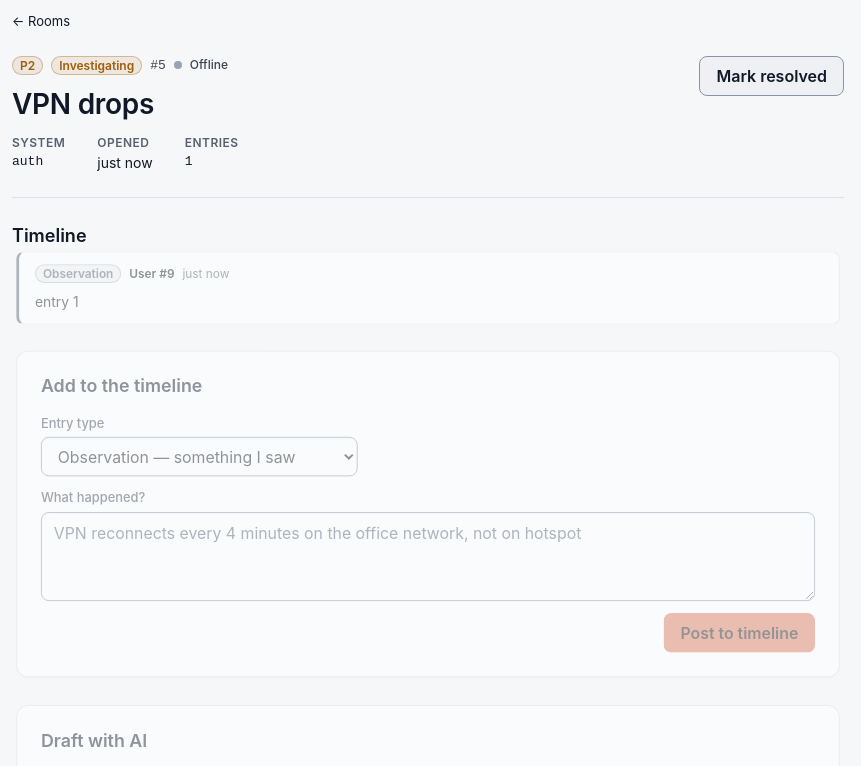
Test: RoomDetailsPage › posts an entry as { text } and merges the stored row into the timeline in id order
This screenshot has width=861, height=766.
Select "Action — something I did" in the dropdown labelled "Entry type" at [199, 457], box [41, 437, 358, 476]
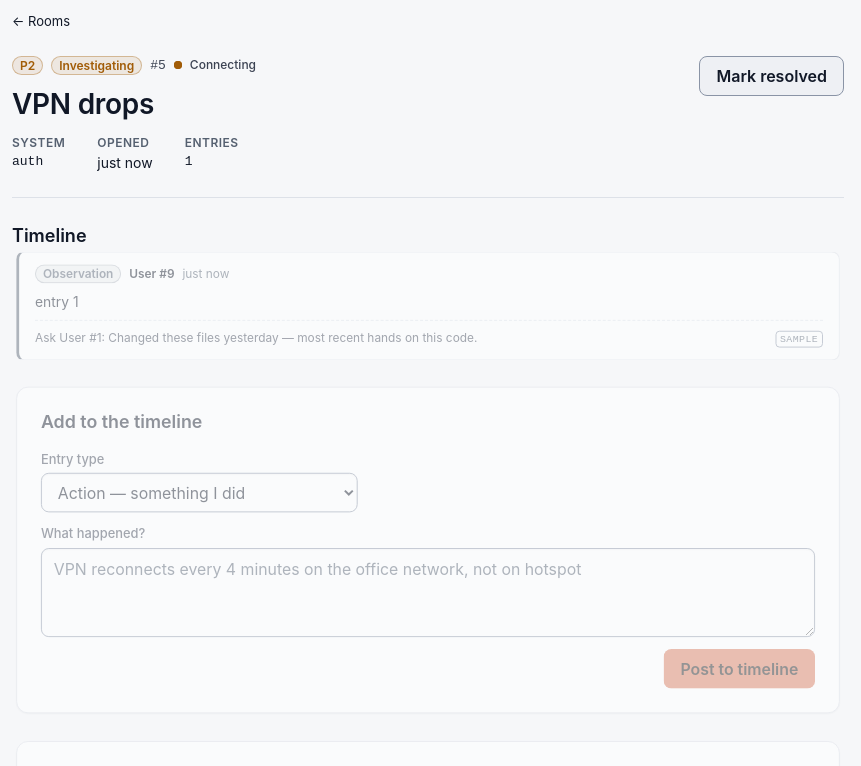
Replace the text in the text box labelled "What happened?" with "  Restarted the VPN " at [428, 592], box [41, 548, 815, 637]
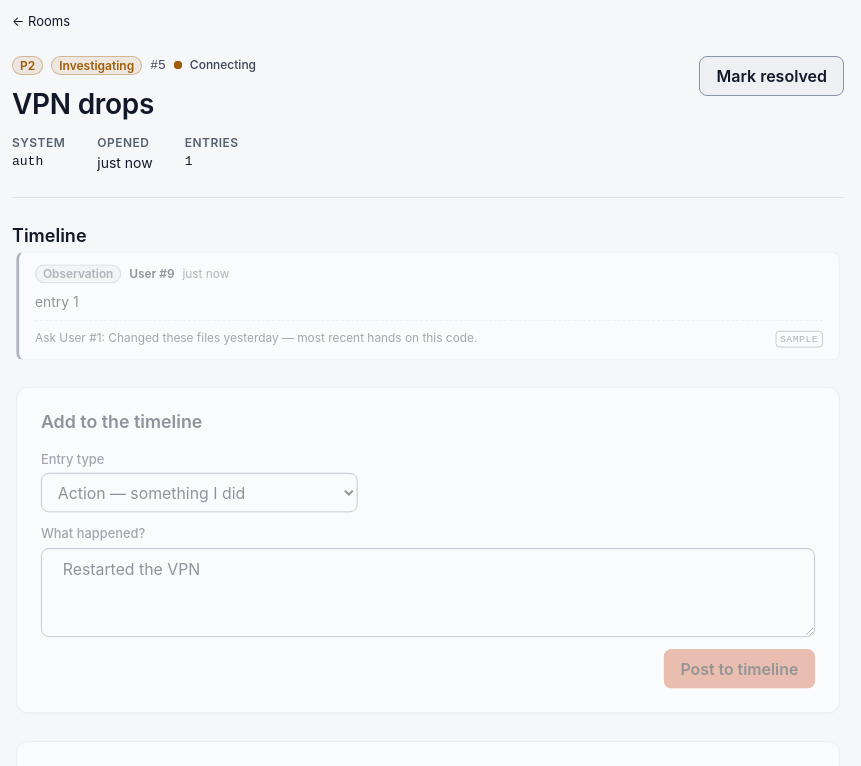
Click the button "Post to timeline" at [739, 668], box [664, 648, 815, 688]
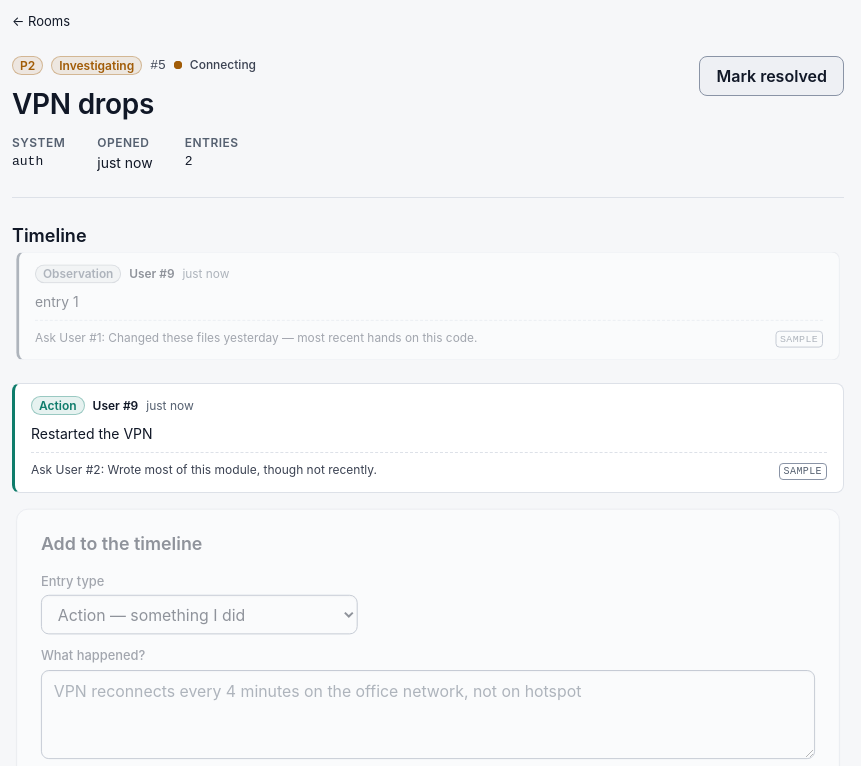
Check: the text "Restarted the VPN" is shown, box [31, 425, 153, 442]
Check: the text box labelled "What happened?" is empty, box [41, 670, 815, 759]
